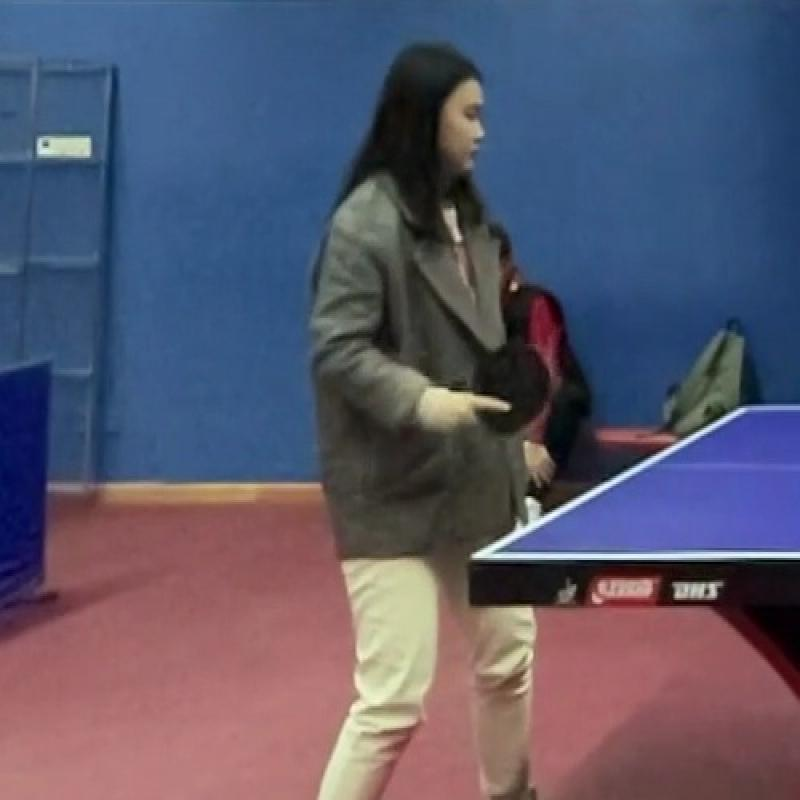bats: (465, 338, 559, 448)
